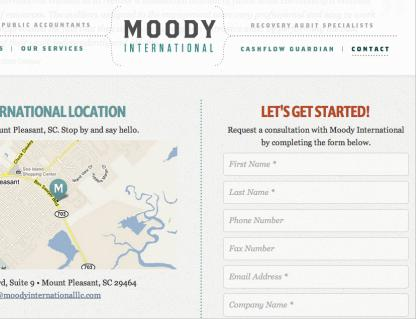field: (223, 152, 409, 176), (222, 180, 408, 204), (222, 208, 408, 232), (222, 236, 408, 260), (223, 265, 409, 289), (223, 292, 409, 316)
